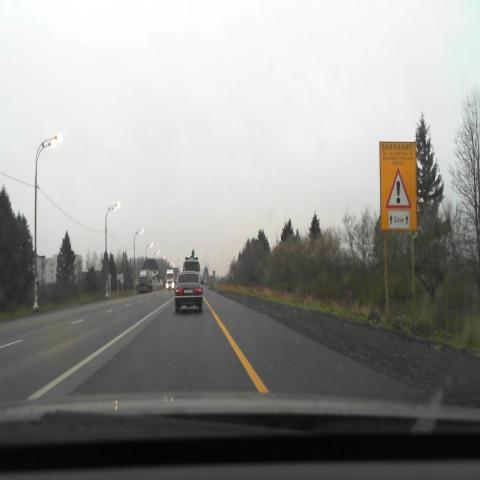1_33: (386, 168, 412, 208)
8_2_1: (389, 211, 410, 229)
